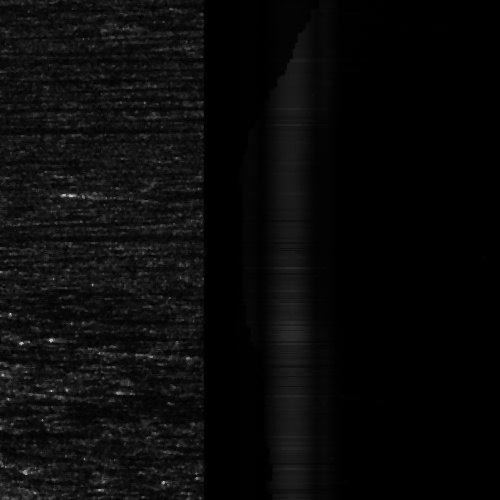object: (20, 187, 145, 198)
shadow: (0, 118, 159, 137), (0, 48, 210, 53), (83, 187, 178, 198), (0, 425, 54, 436)
